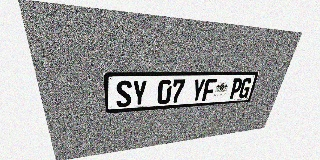0: (157, 79, 172, 104)
7: (170, 79, 185, 103)
F: (202, 79, 217, 101)
G: (238, 78, 253, 98)
P: (228, 78, 243, 99)
S: (116, 80, 132, 107)
Y: (132, 80, 147, 106), (190, 79, 206, 102)
